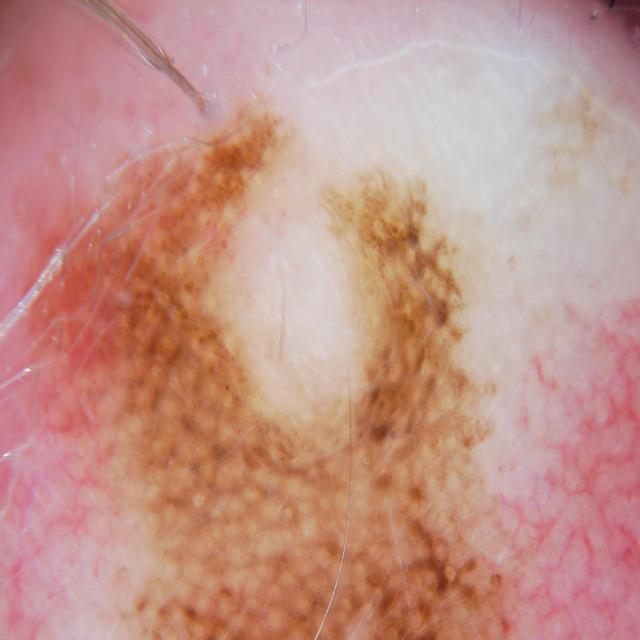Melanoma: (77, 123, 606, 640)
